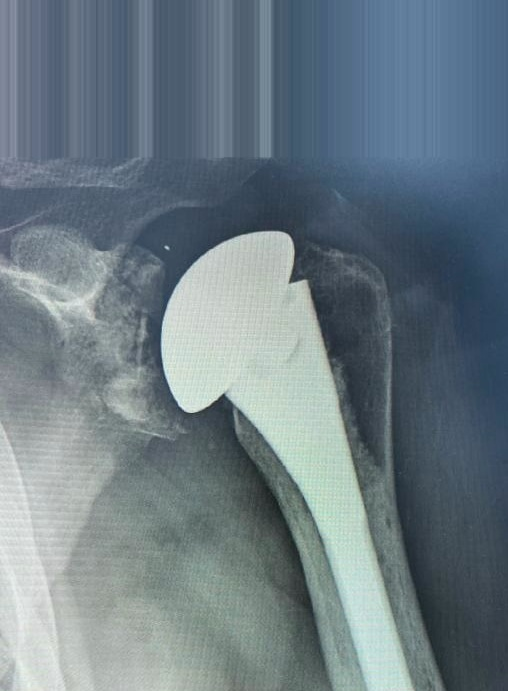Shoulder - Anotomical - Stryker: (152, 222, 347, 417)
